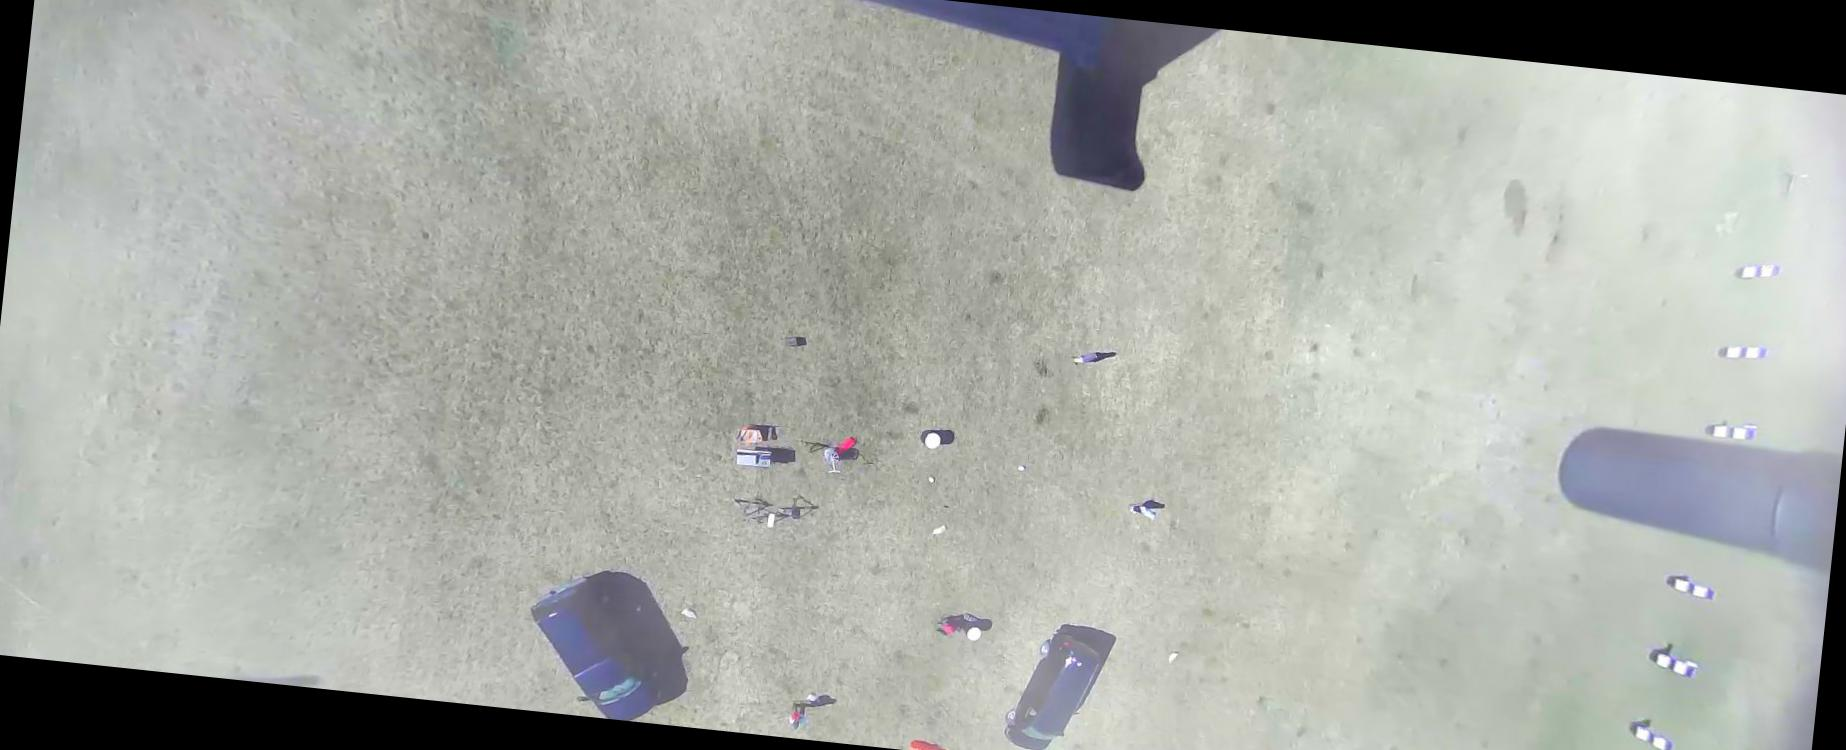vehicle: (519, 571, 673, 723), (1001, 628, 1105, 749)
